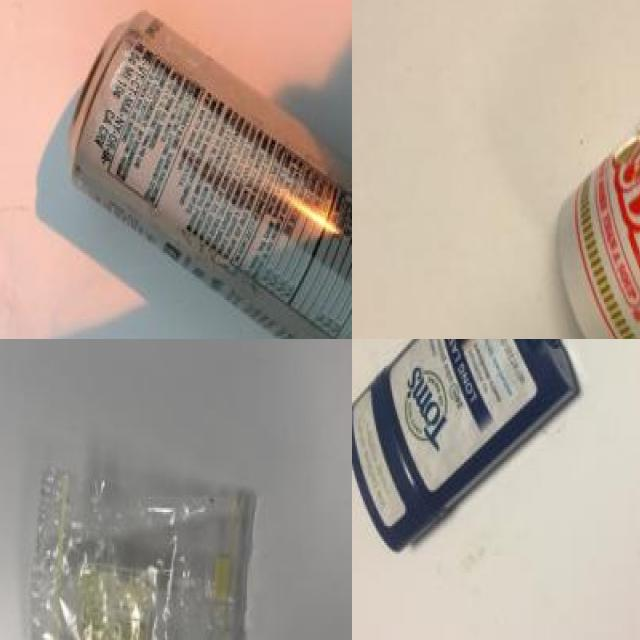plastic: (44, 0, 352, 339)
trash: (17, 433, 284, 640), (352, 339, 598, 557), (555, 0, 640, 339)
